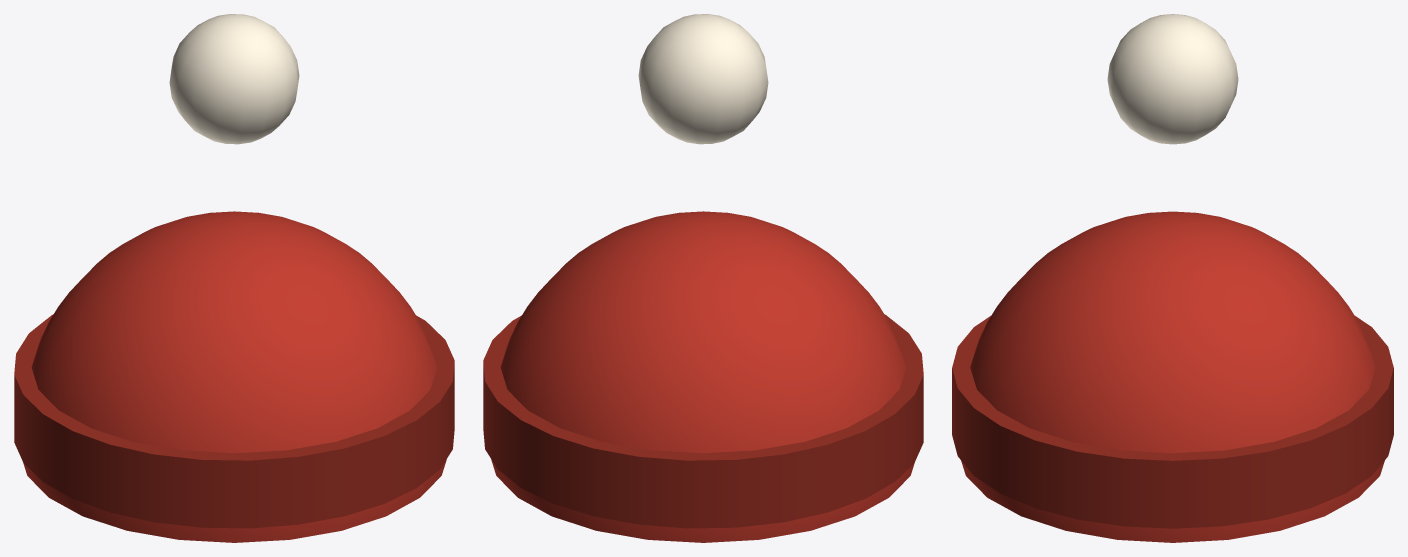
Rendered from beanie.glb.
3 renders of one model, left to right at view 1: azimuth 30°, elevation 25°; view 2: azimuth 150°, elevation 25°; view 3: azimuth 270°, elevation 25°, orthographic.
Visible parts, largest first — view 1: beanie; view 2: beanie; view 3: beanie.
Boxes of the visible parts, box(x1,y1,x2,y2) form: beanie: box(14, 14, 454, 542); beanie: box(483, 14, 923, 542); beanie: box(952, 14, 1393, 542).
Size of the model in its own units: 0.236 by 0.255 by 0.236.
